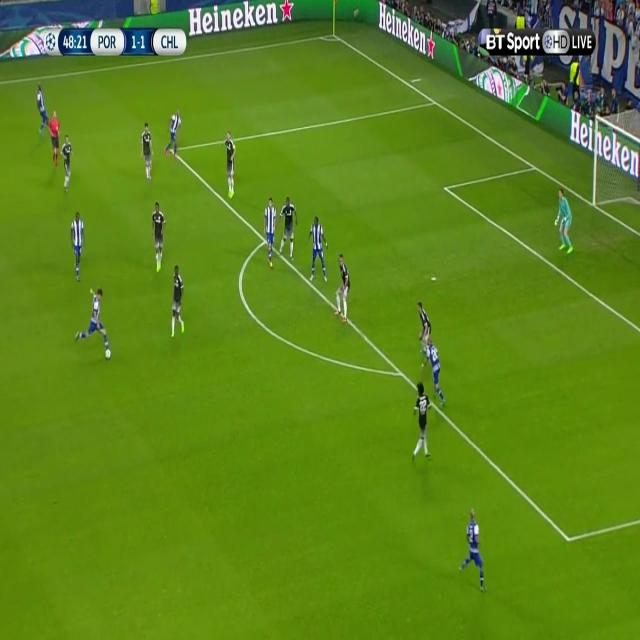Ball: (102, 346, 114, 366)
Goalkeeper: (551, 183, 576, 261)
Player: (457, 504, 487, 592), (76, 282, 110, 347), (409, 379, 433, 468), (277, 192, 301, 264), (307, 212, 330, 284), (168, 262, 188, 344), (421, 342, 445, 410), (68, 209, 88, 284), (161, 103, 185, 165), (334, 250, 351, 330), (151, 199, 167, 273), (417, 297, 432, 372), (32, 80, 51, 137), (263, 194, 277, 271), (223, 131, 237, 203), (59, 133, 75, 195), (139, 121, 155, 183)
Referee: (45, 107, 64, 173)
